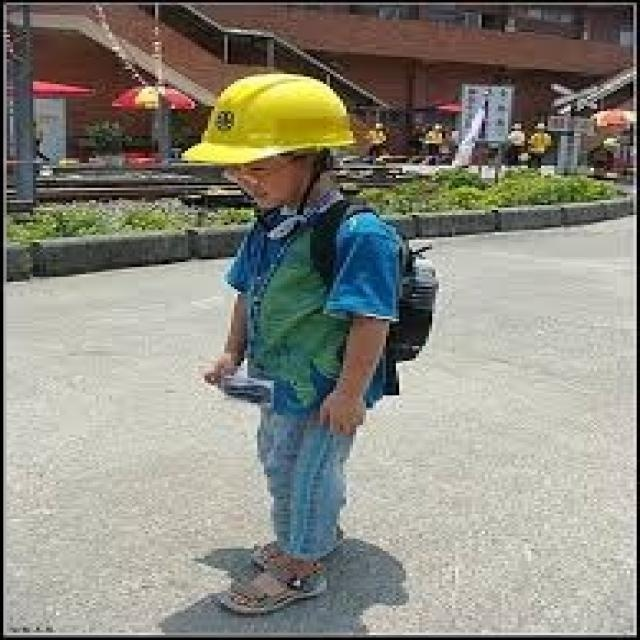Con_Casco: (193, 67, 352, 206)
